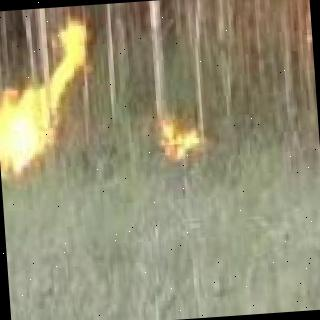fire: (0, 74, 65, 181), (45, 11, 91, 96), (164, 116, 200, 156)
